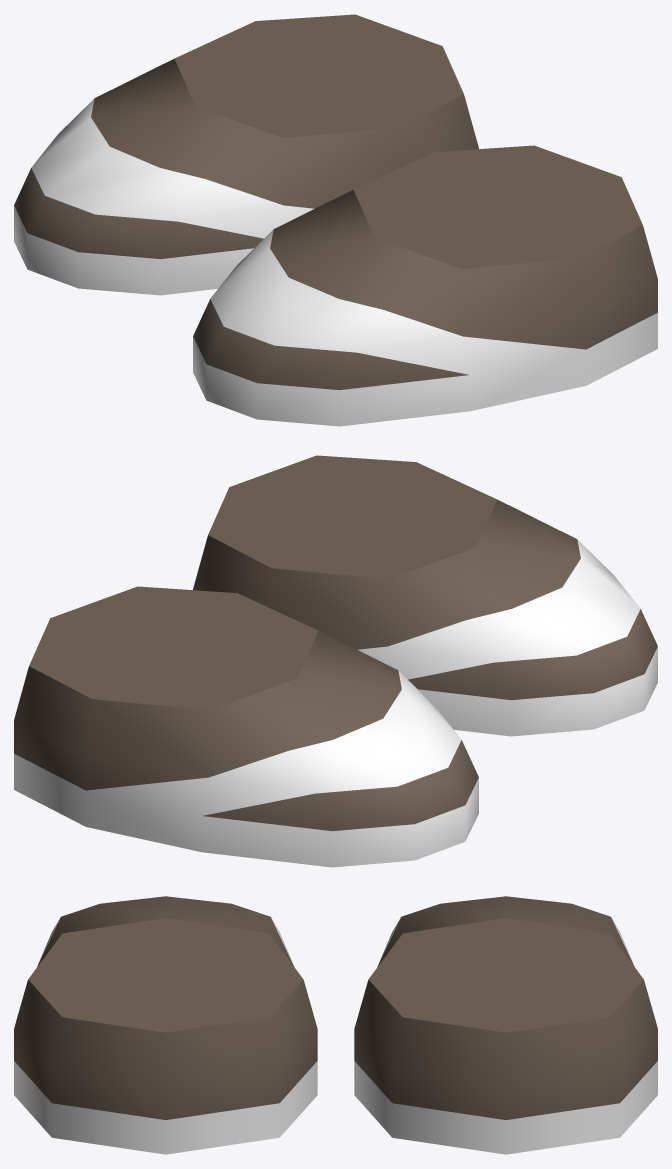
File: sandals.fbx
3 renders of one model, top to bottom at view 1: azimuth 30°, elevation 25°; view 2: azimuth 150°, elevation 25°; view 3: azimuth 270°, elevation 25°, orthographic. The views are drawn at different scales.
Parts seen in each view (by area): view 1: Cube.000; view 2: Cube.000; view 3: Cube.000.
Boxes of the visible parts, left/top/right/bottom form: Cube.000: left=14, top=14, right=657, bottom=426; Cube.000: left=14, top=455, right=657, bottom=867; Cube.000: left=14, top=896, right=657, bottom=1154.
Size of the model in its own units: 84.79 by 23.11 by 116.
